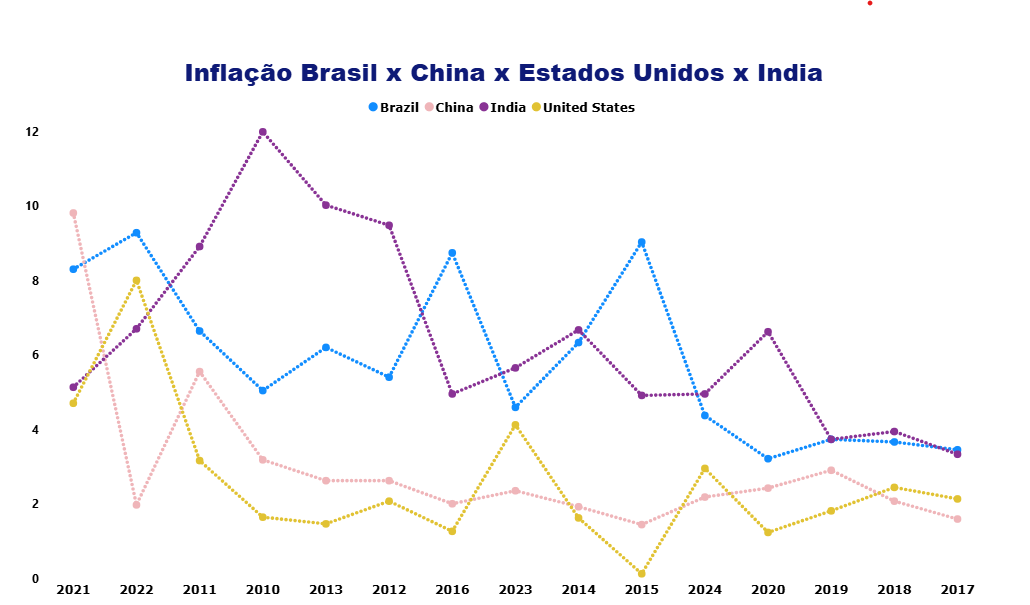

The dashboard page shown, as its layout file describes it:
{"tool":"powerbi","page":{"name":"Inflação - Brasil x Índia x China x EUA","canvas":[1280,720],"ordinal":1},"visuals":[{"type":"lineChart","title":"Inflação Brasil x China x Estados Unidos x India ","fields":{"Category":["indicadores.year"],"Series":["indicadores.country_name"],"Y":["Sum(indicadores.Inflação ajustada)"]},"box":[126.2,56.3,1062.1,605.1],"z":0}]}

Visuals, with their boxes on the page's 1280x720 design canvas (x1, y1, x2, y2). These are canvas units, not pixel positions in the 1030x605 screenshot, which may show the page scaled, cropped or inside an application window:
"Inflação Brasil x China x Estados Unidos x India " lineChart: bbox(126, 56, 1188, 661)
